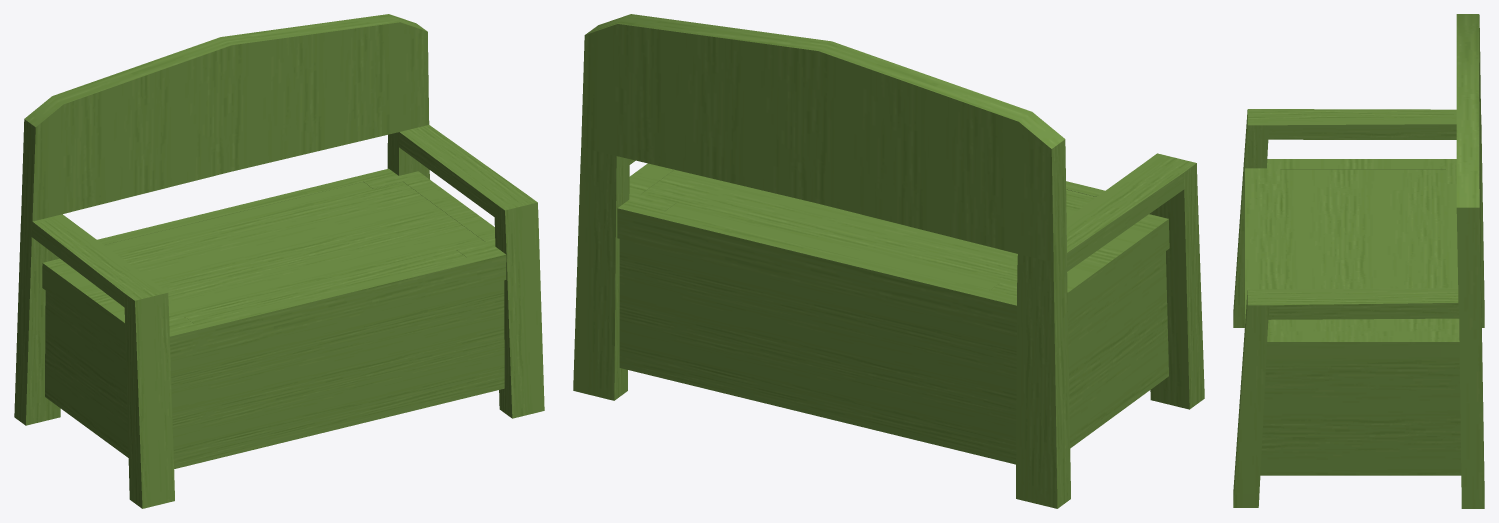
Rendered from Deacon_Bench_C.FBX.
The picture shows the model from 3 angles, left to right: view 1: azimuth 30°, elevation 25°; view 2: azimuth 150°, elevation 25°; view 3: azimuth 270°, elevation 25°; orthographic projection. The views are drawn at different scales.
Visible parts, largest first — view 1: Deacon_Bench, Lid; view 2: Deacon_Bench, Lid; view 3: Deacon_Bench, Lid.
Part boxes in pixels (x1,y1,x2,y2): Deacon_Bench: (14,14,544,508); Lid: (104,182,485,323); Deacon_Bench: (573,14,1204,508); Lid: (641,169,1096,290); Deacon_Bench: (1233,14,1484,508); Lid: (1259,169,1458,331).
Bounding box in the file's own units: 248 × 194 × 133.
